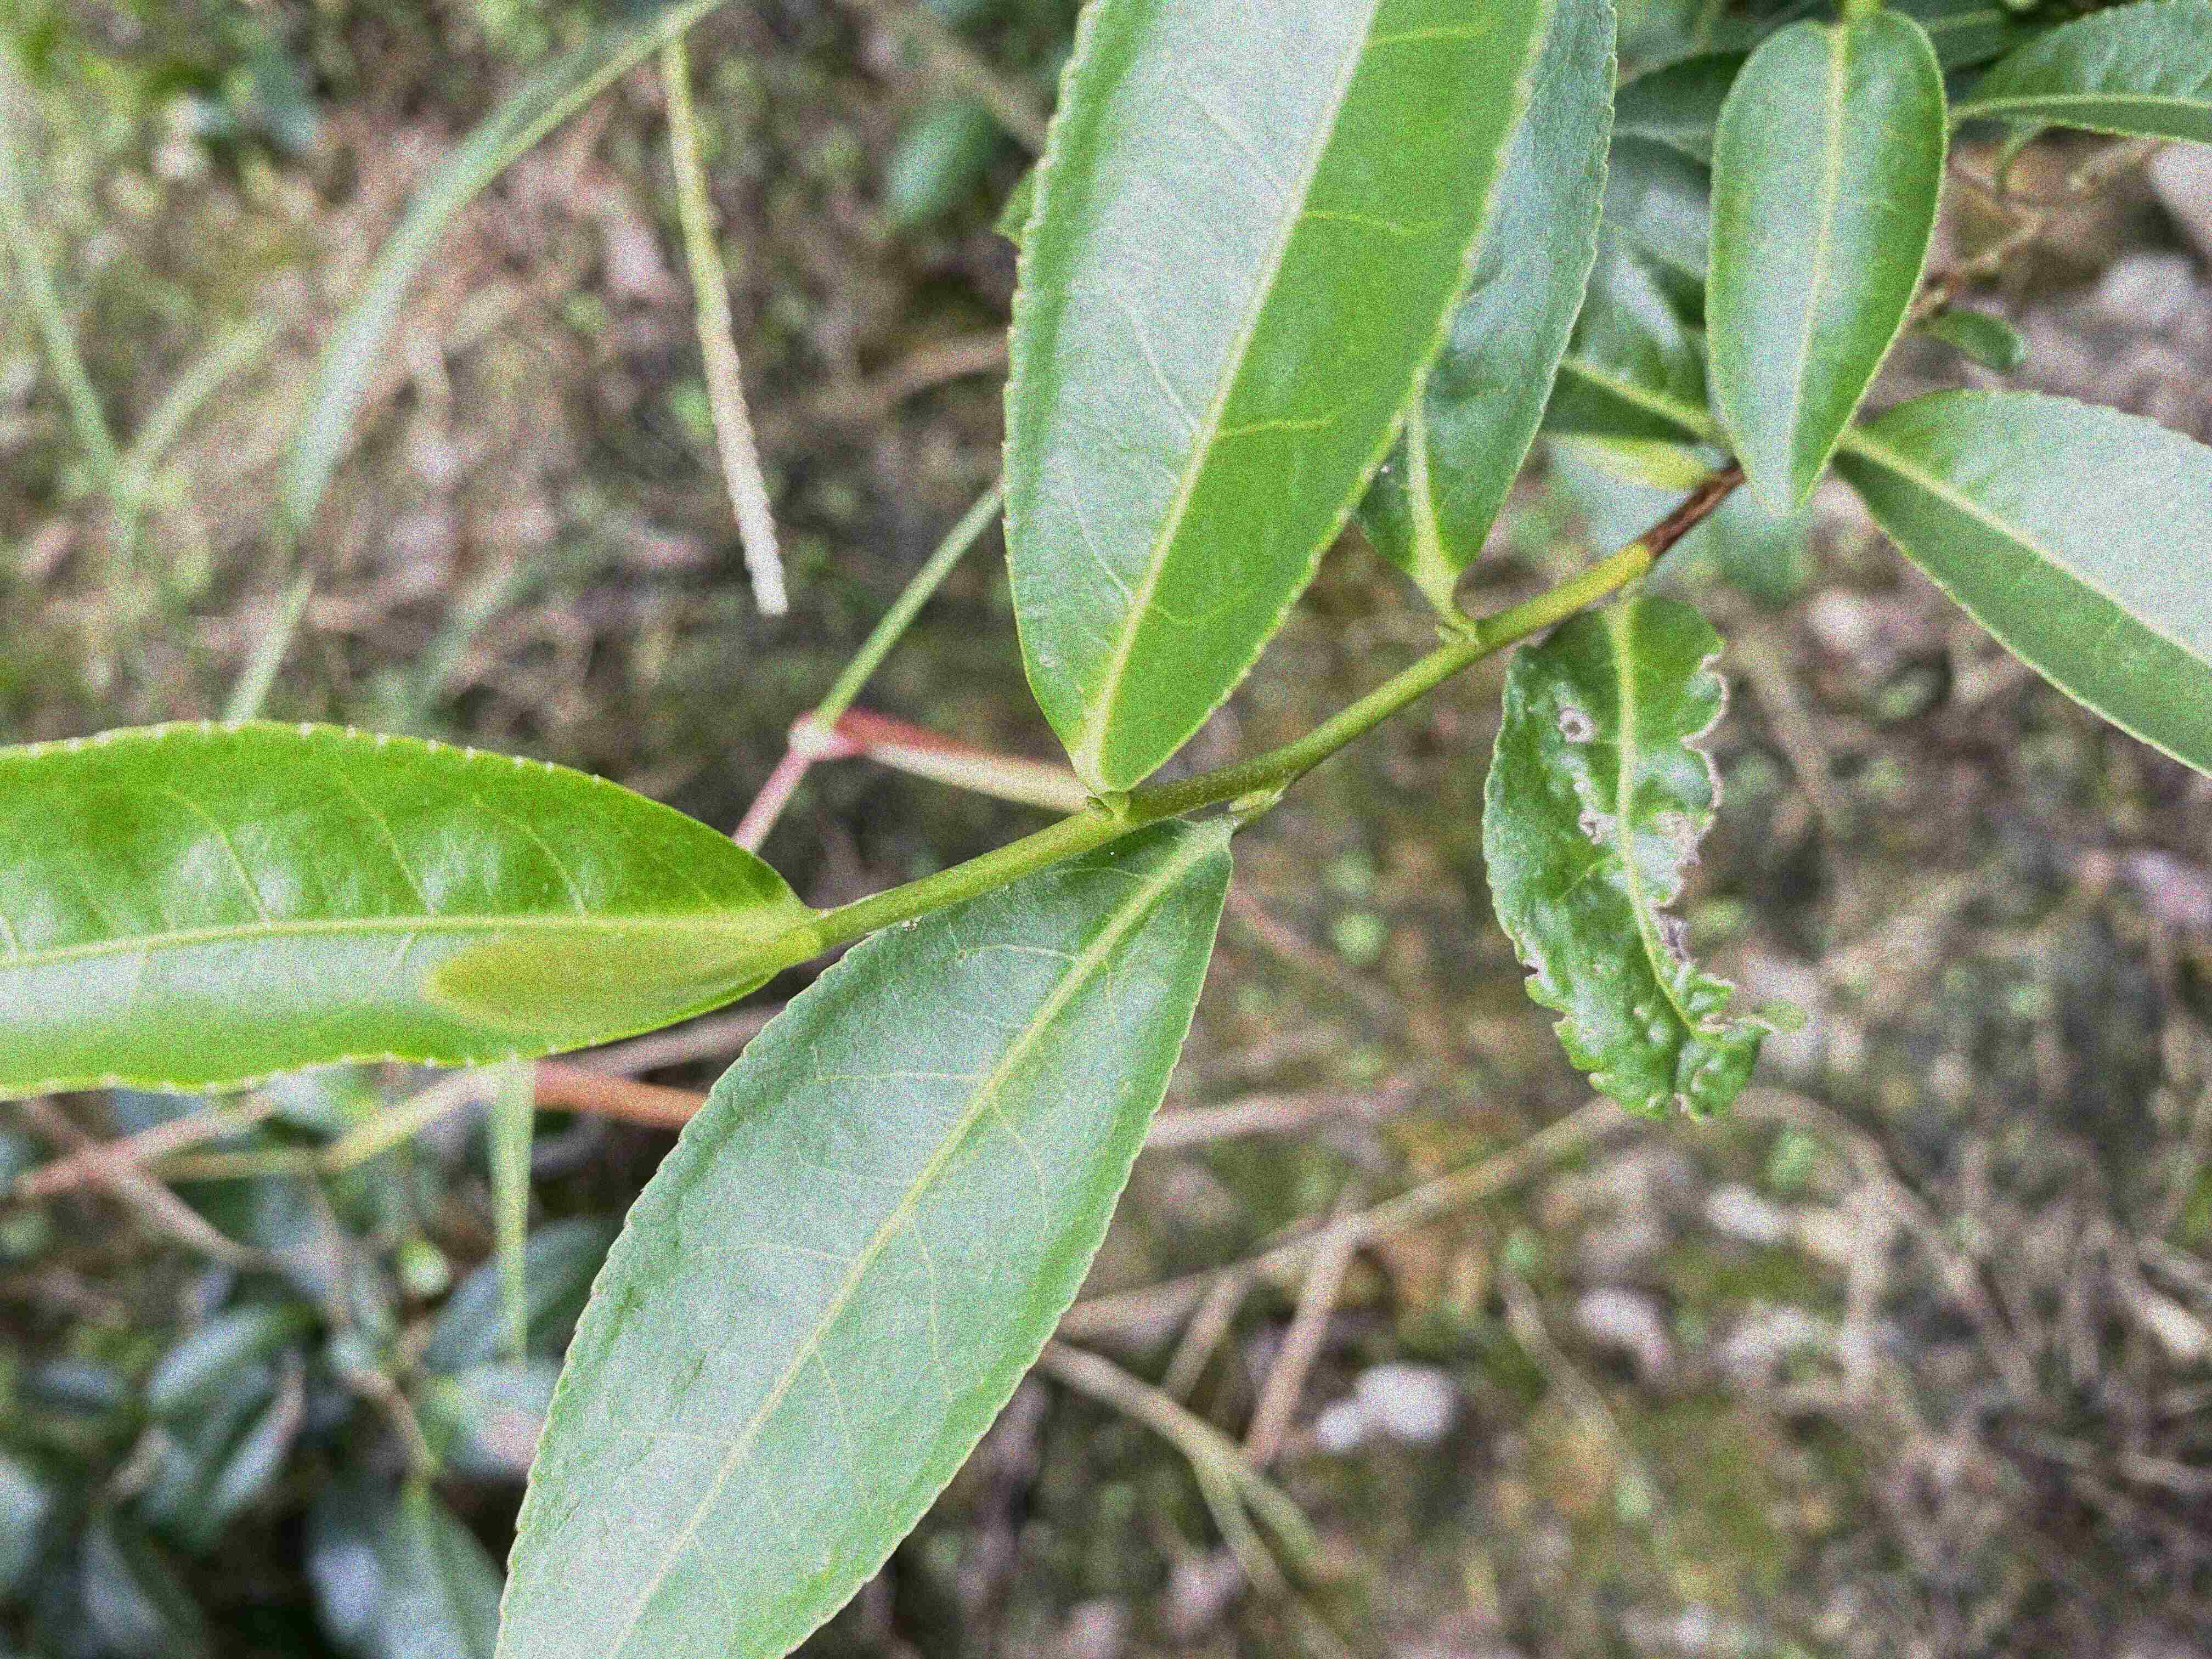chihuo_high: (1477, 580, 1777, 1124)
healthy: (486, 821, 1231, 1657), (1000, 2, 1557, 798), (2, 718, 805, 1103), (1839, 383, 2207, 781), (1702, 10, 1954, 519)
